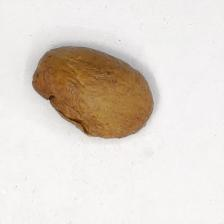NG: (34, 76, 93, 135)
